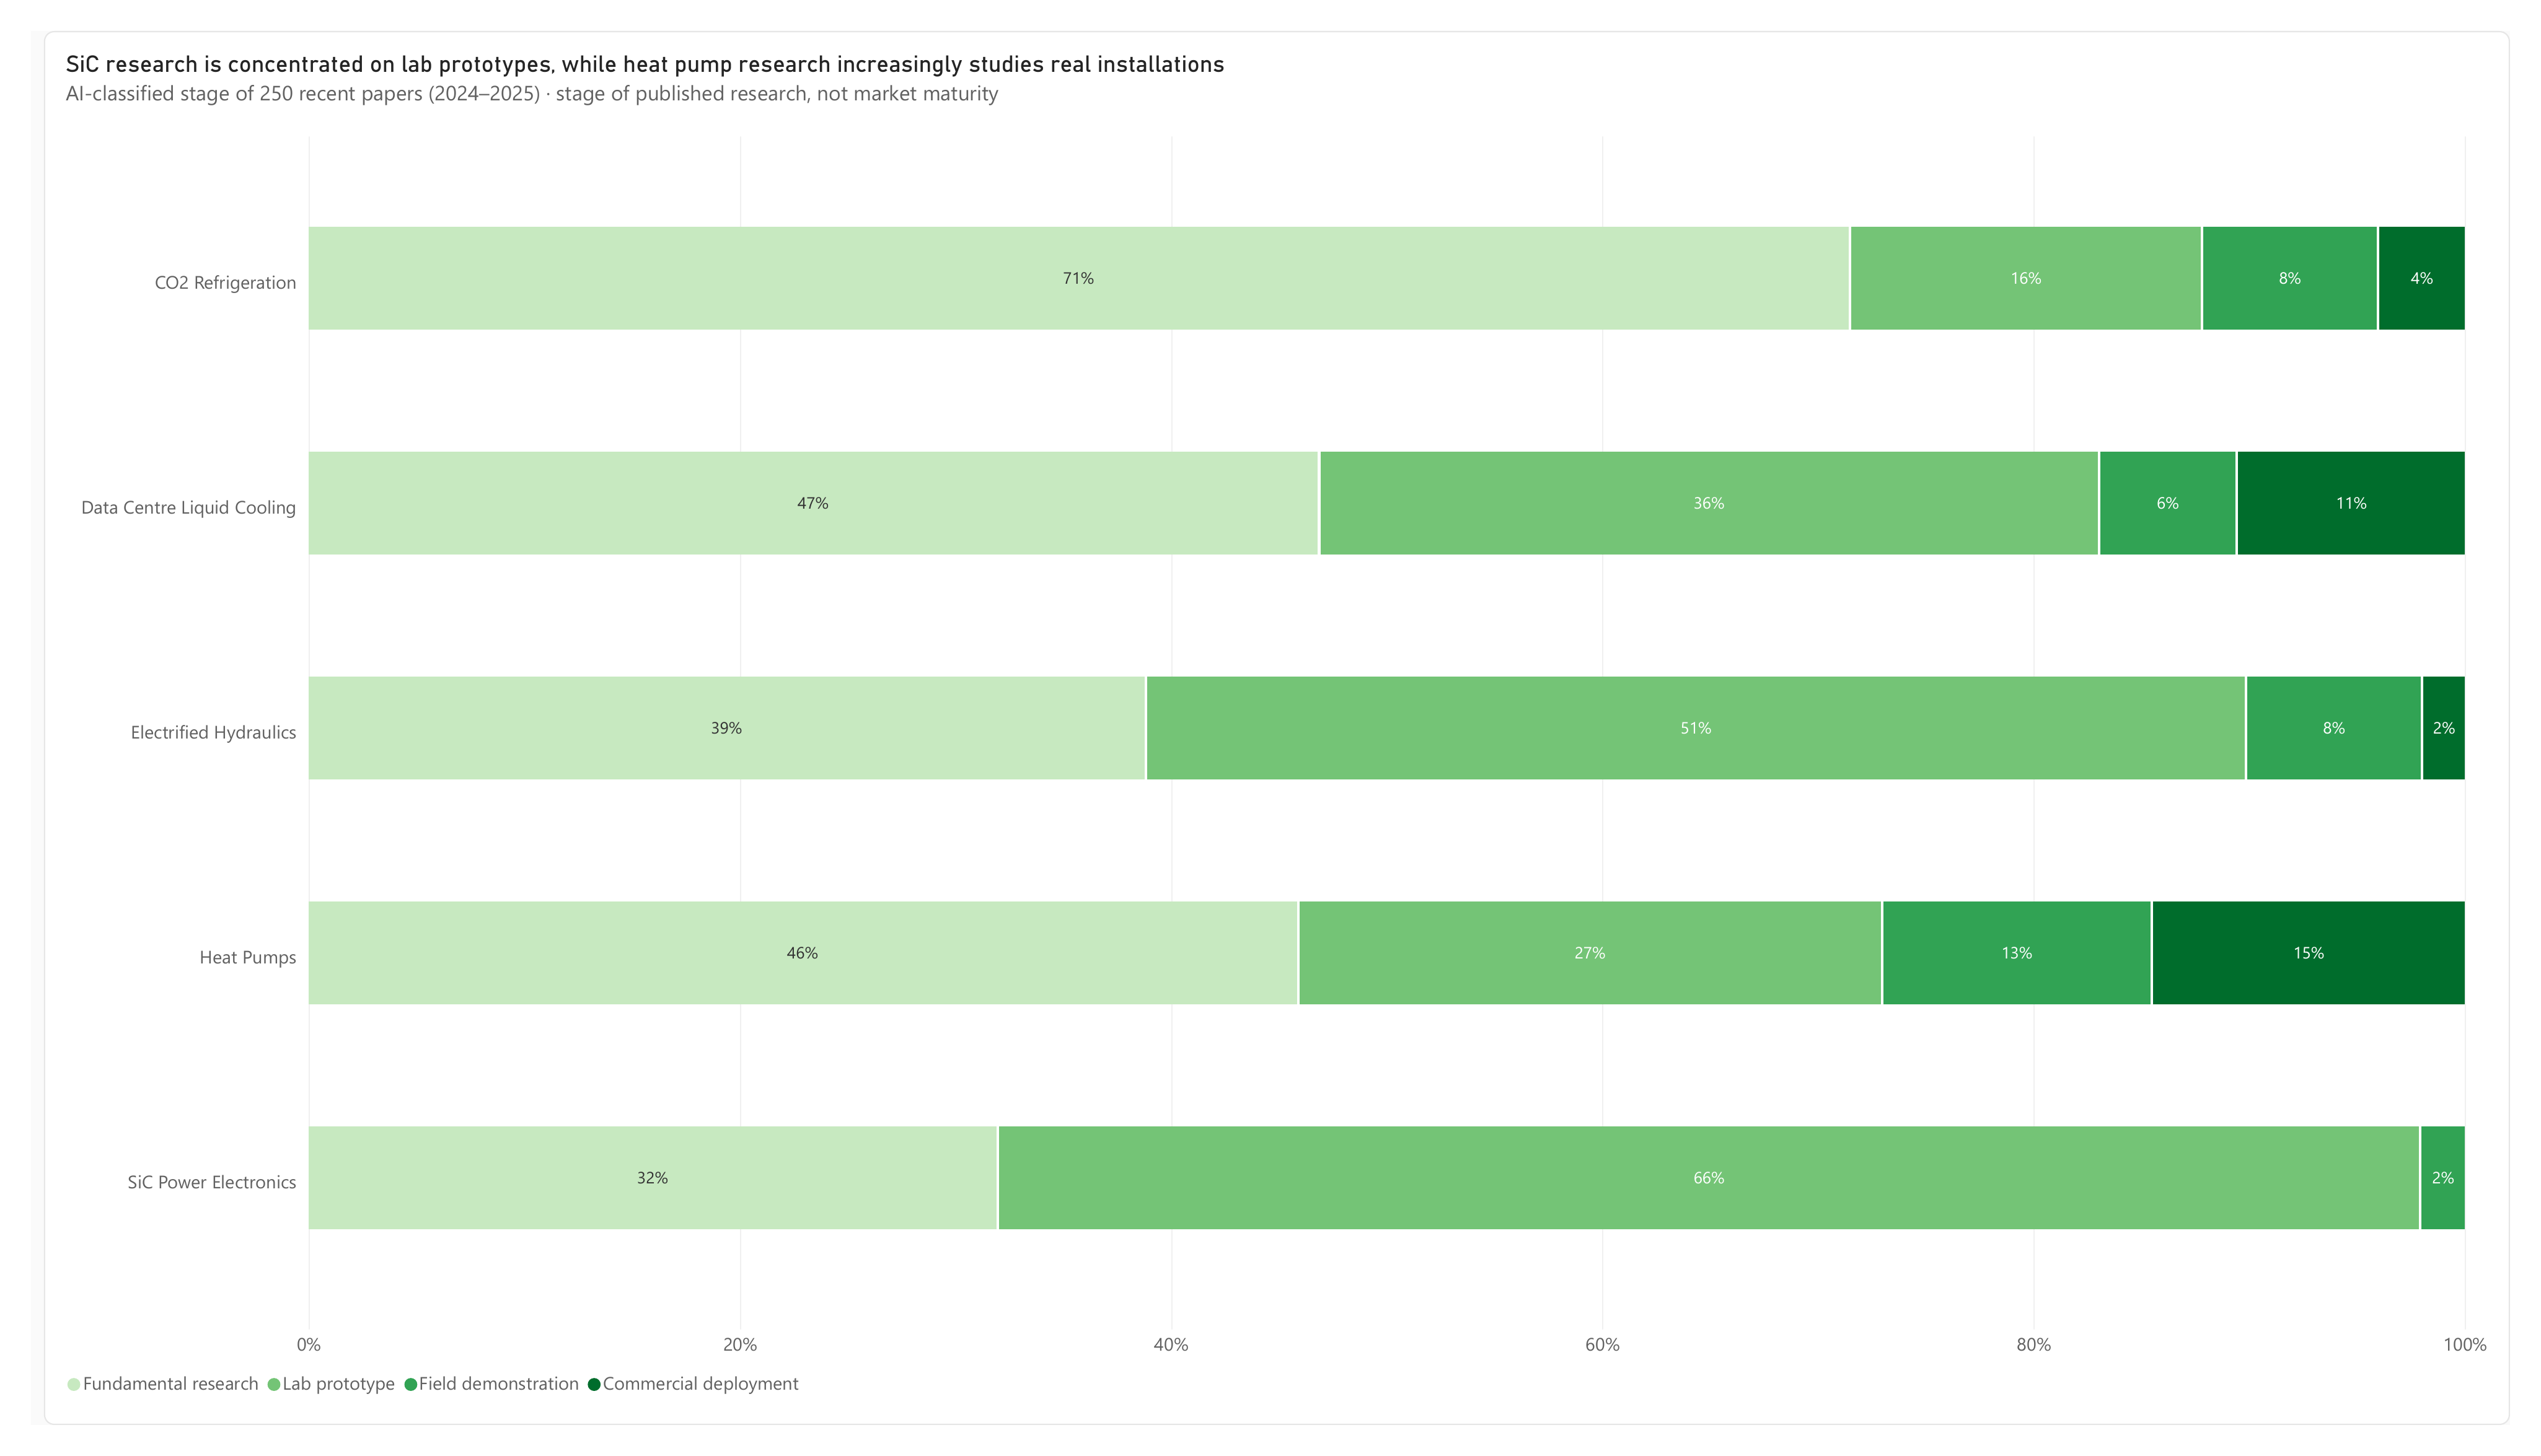

The page's visual inventory and layout, read from the dashboard file:
{"tool":"powerbi","page":{"name":"Maturity","canvas":[1920,1080],"ordinal":3},"visuals":[{"type":"hundredPercentStackedBarChart","title":"SiC research is concentrated on lab prototypes, while heat pump research increasingly studies real installations","fields":{"Category":["Technology.technology"],"Series":["classified.maturity"],"Y":["_Measures.Relevant Papers"]},"box":[9.8,0,1909.9,1080],"z":0}]}

Visuals, with their boxes on the page's 1920x1080 design canvas (x1, y1, x2, y2). These are canvas units, not pixel positions in the 2541x1456 screenshot, which may show the page scaled, cropped or inside an application window:
"SiC research is concentrated on lab prototypes, while heat pump research increasingly studies real installations" hundredPercentStackedBarChart: 10/0/1920/1080
